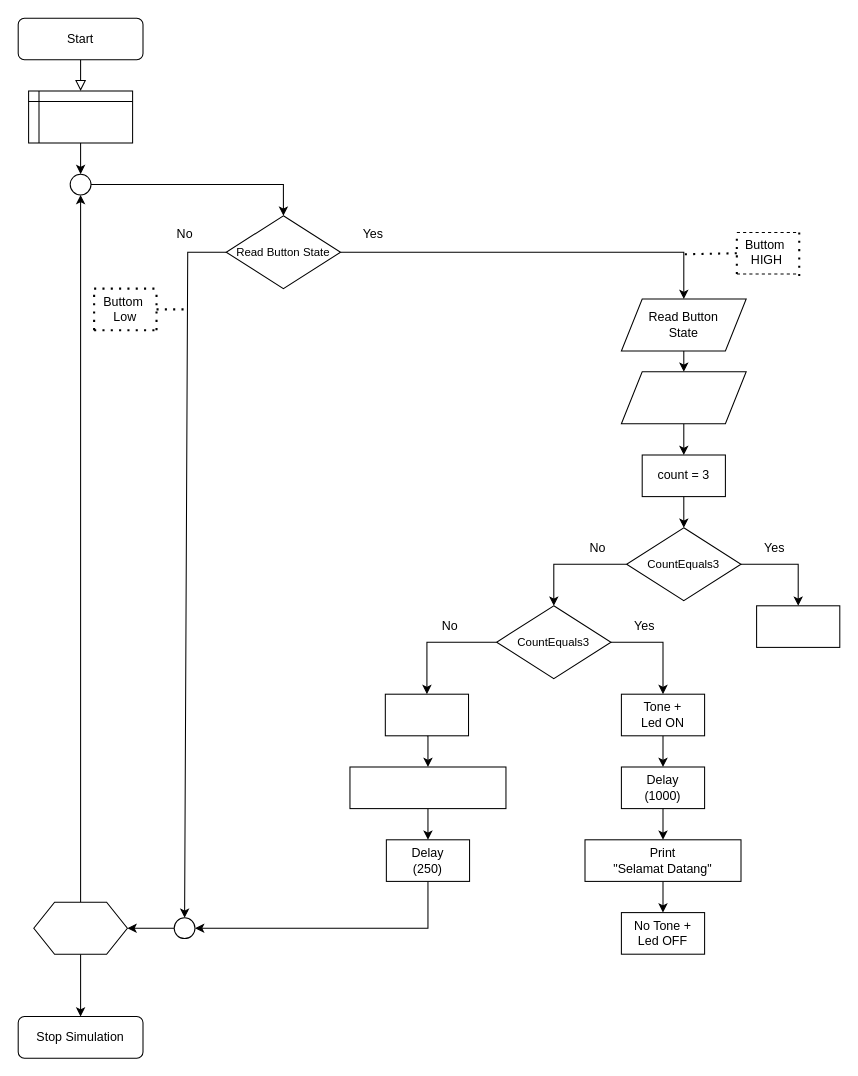
Some shapes in this 858 by 1076 pixel diagram are drawn without their labels. Here are the shapes that lost their labels. From the top down, the box of each, then its label:
(28, 90, 133, 143): Setup Fungsion
(620, 371, 746, 424): Increment Count
(756, 605, 840, 647): count = 1
(384, 693, 469, 736): Led OFF
(349, 766, 506, 809): Print "Selamat jalan"
(33, 901, 127, 954): Loop Function
